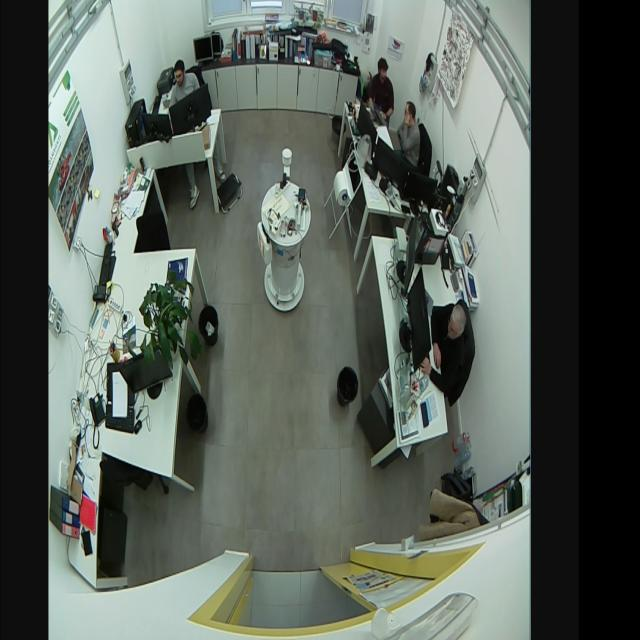Persona: (425, 296, 471, 403), (365, 54, 396, 126), (168, 51, 206, 108), (395, 98, 424, 169)
